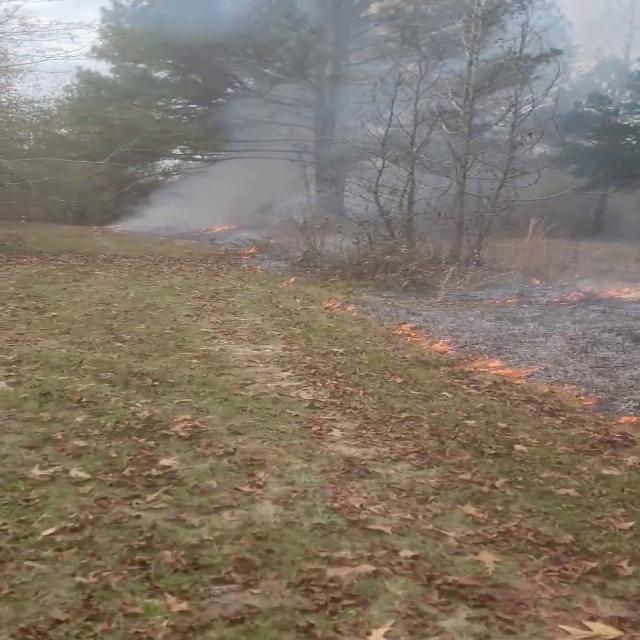Smoke: (112, 0, 402, 246)
